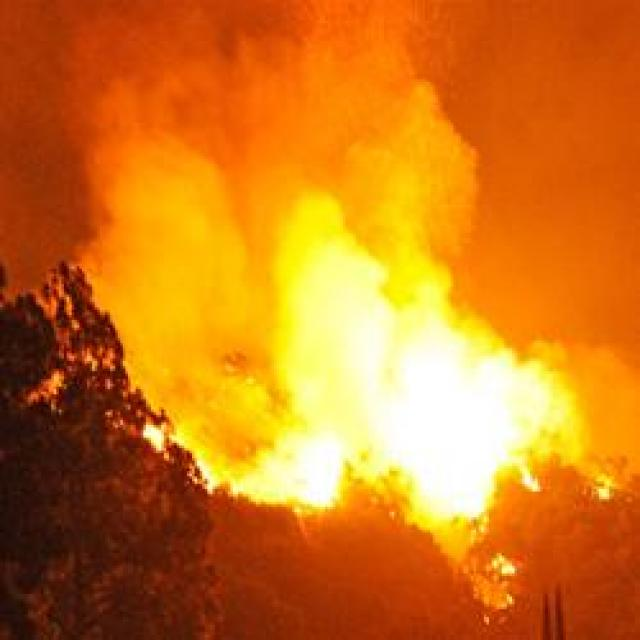fire: (140, 230, 595, 552)
